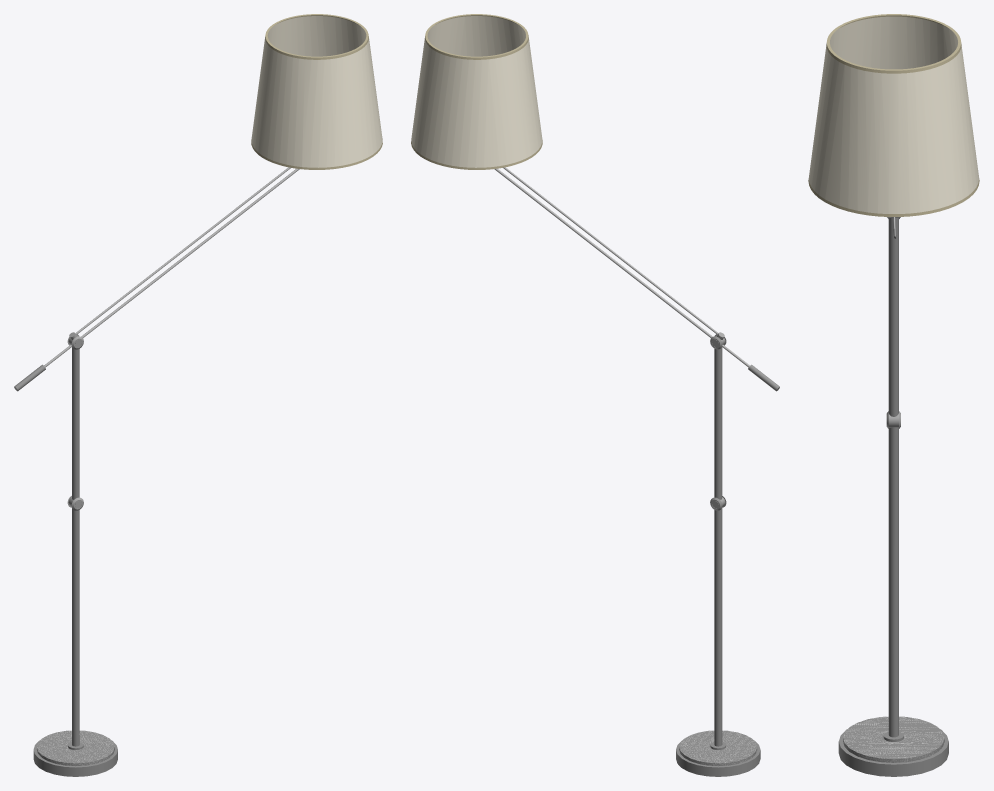
File: floor_lamp.fbx
3 renders of one model, left to right at view 1: azimuth 30°, elevation 25°; view 2: azimuth 150°, elevation 25°; view 3: azimuth 270°, elevation 25°, orthographic. The views are drawn at different scales.
Visible parts, largest first — view 1: polySurface256; view 2: polySurface256; view 3: polySurface256.
Part boxes in pixels (<box>): polySurface256: <box>14,14,382,776</box>; polySurface256: <box>411,14,779,776</box>; polySurface256: <box>808,14,979,776</box>.
Bounding box in the file's own units: 101 × 178 × 31.95.
